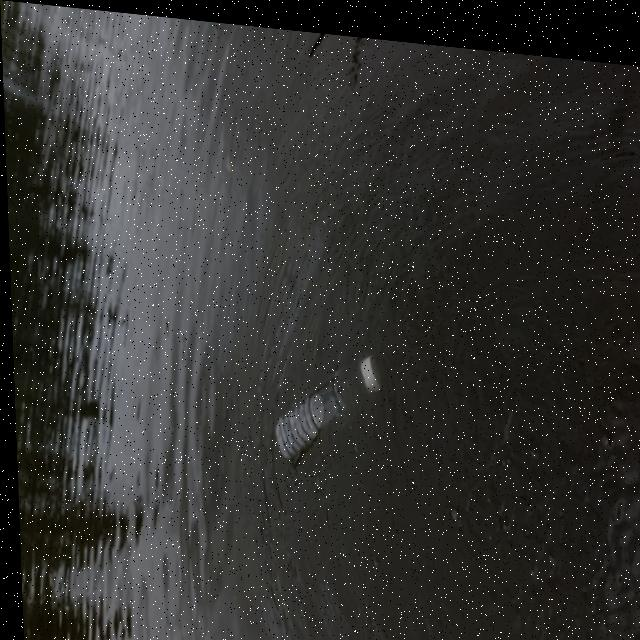waterbottle: (263, 332, 402, 462)
